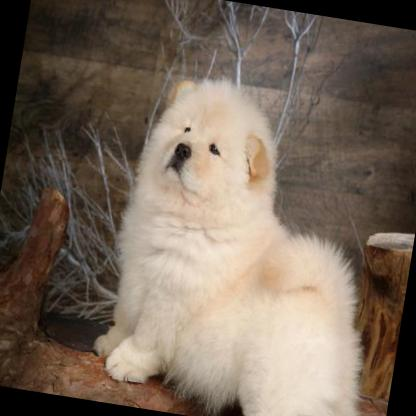chow: (80, 53, 416, 416)
